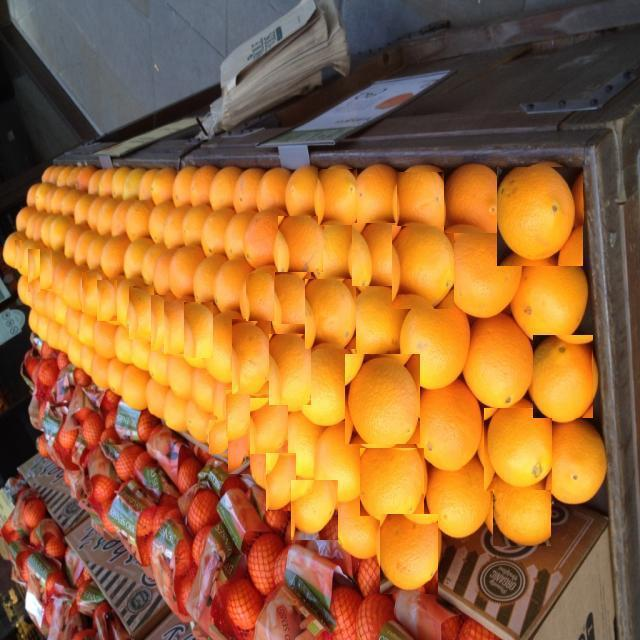Orange: (497, 167, 583, 266), (345, 354, 420, 444), (408, 388, 482, 470), (462, 318, 526, 412), (404, 298, 471, 385), (484, 408, 552, 491), (516, 258, 589, 331), (392, 225, 454, 309), (533, 335, 593, 418), (546, 427, 611, 503), (444, 156, 507, 233), (380, 514, 438, 594), (428, 464, 490, 538), (360, 448, 424, 516), (301, 344, 358, 420), (352, 223, 410, 286), (305, 279, 356, 349), (494, 490, 552, 546), (269, 334, 311, 405), (232, 319, 271, 394), (291, 480, 338, 540), (334, 500, 380, 557), (278, 215, 323, 272), (397, 172, 444, 226), (320, 428, 360, 490), (199, 318, 243, 371), (310, 222, 352, 275), (318, 169, 357, 225), (250, 398, 288, 454), (354, 169, 396, 219), (252, 212, 288, 266), (275, 272, 311, 324), (266, 453, 296, 511), (286, 420, 316, 478), (184, 302, 213, 358), (282, 170, 318, 213), (246, 273, 274, 321), (129, 286, 154, 339), (164, 301, 186, 354), (260, 166, 288, 206), (227, 390, 250, 437), (228, 432, 250, 474), (151, 295, 167, 352), (98, 280, 118, 321), (82, 272, 102, 312), (119, 282, 139, 322), (209, 420, 231, 454), (28, 249, 40, 292), (214, 388, 226, 430), (49, 255, 62, 292), (40, 250, 52, 289), (62, 271, 73, 308), (3, 233, 13, 263), (15, 240, 22, 268), (28, 242, 33, 272)
